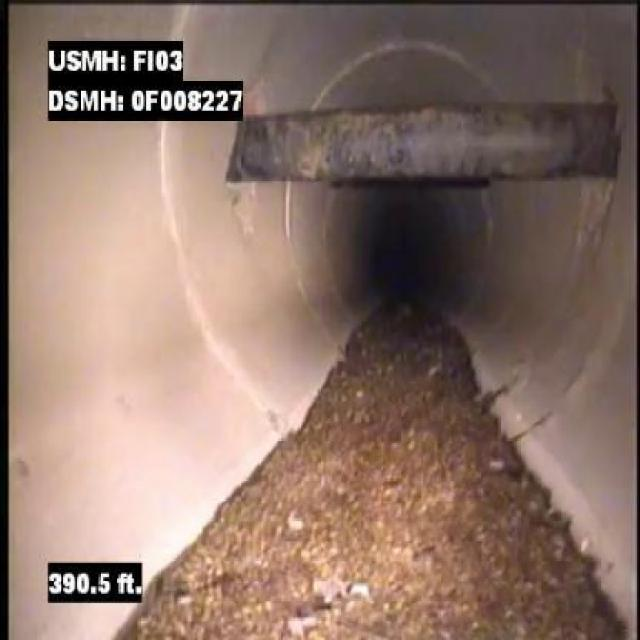Debris: (154, 443, 541, 592)
Utility intrusion: (222, 92, 624, 188)
